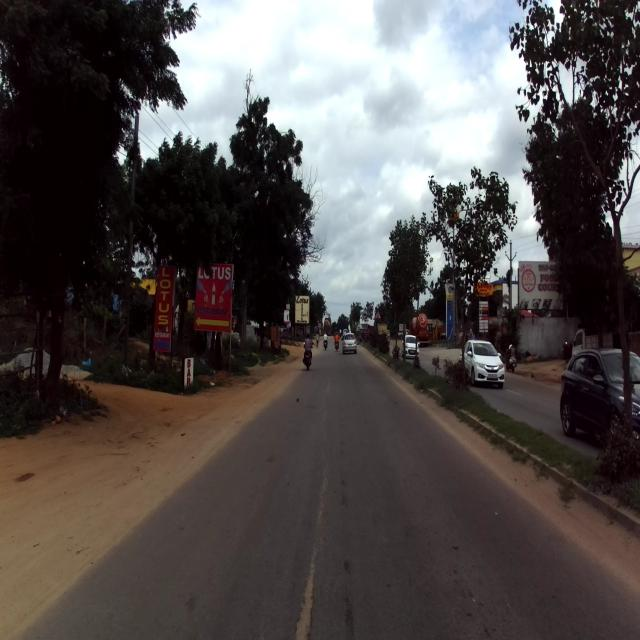car: (458, 336, 506, 390)
